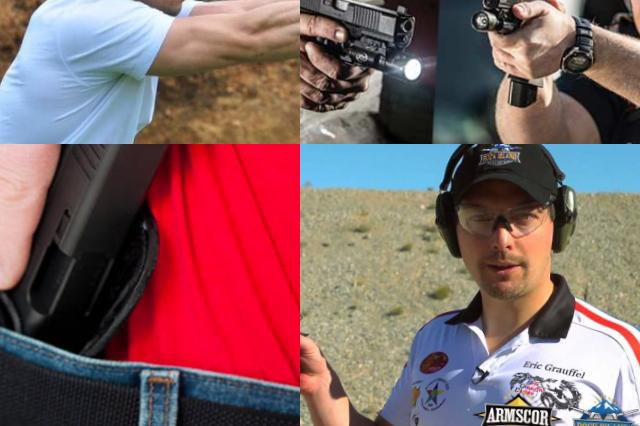handgun: (0, 144, 197, 371), (300, 0, 422, 105), (463, 0, 561, 114), (300, 287, 367, 395)
